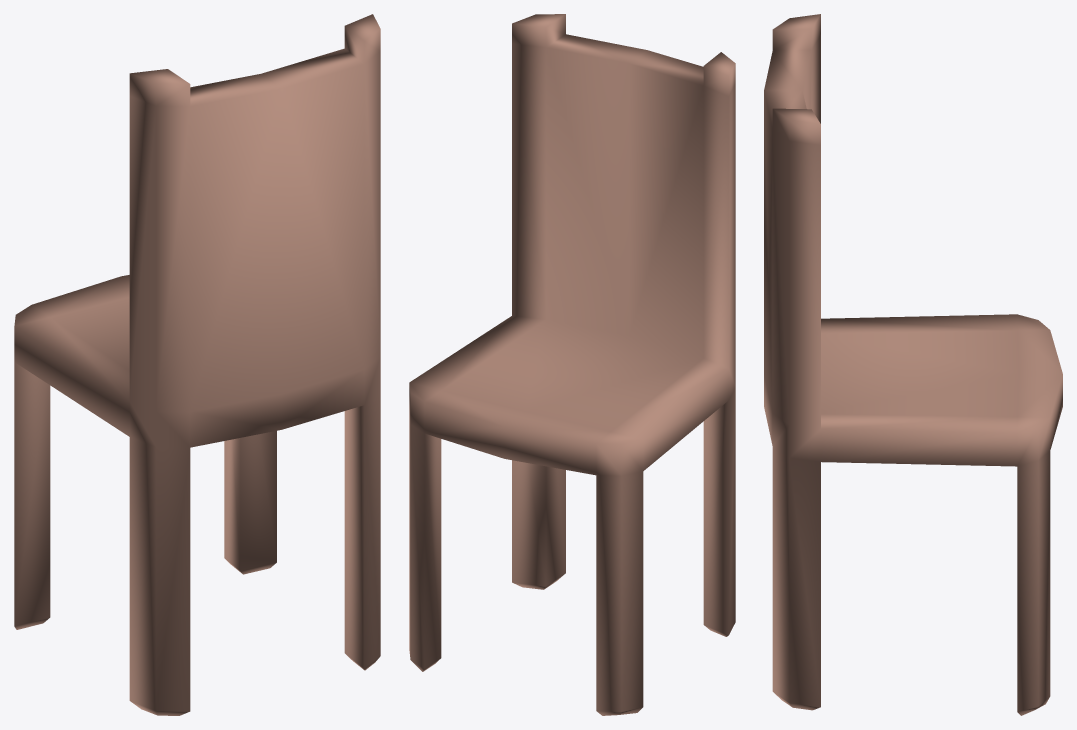
File: sedia.fbx
3 renders of one model, left to right at view 1: azimuth 30°, elevation 25°; view 2: azimuth 150°, elevation 25°; view 3: azimuth 270°, elevation 25°, orthographic. The views are drawn at different scales.
Parts seen in each view (by area): view 1: Sedia; view 2: Sedia; view 3: Sedia.
Part boxes in pixels (x1,y1,x2,y2): Sedia: [14, 14, 380, 715]; Sedia: [409, 14, 735, 715]; Sedia: [764, 14, 1062, 715].
Size of the model in its own units: 286 by 659 by 303.
